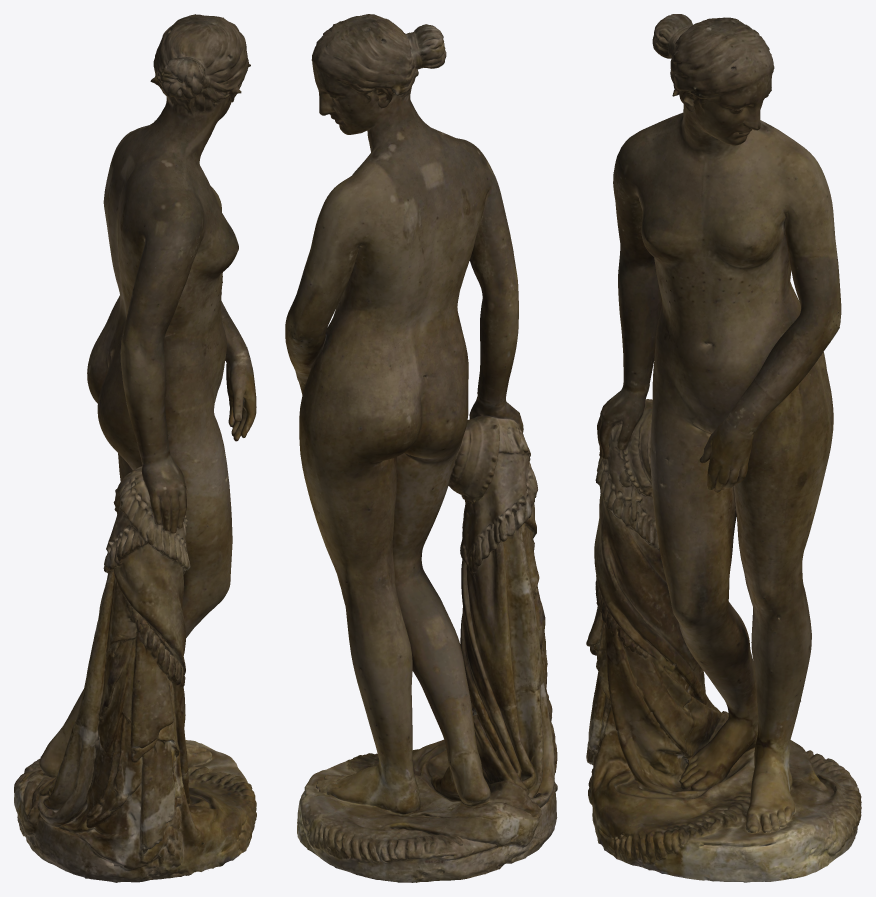
The model's file is l-esclave-grecque.glb.
3 views of the same model, side by side, from view 1: azimuth 30°, elevation 25°; view 2: azimuth 150°, elevation 25°; view 3: azimuth 270°, elevation 25° (orthographic). The views are drawn at different scales.
Bounding box in the file's own units: 20.08 × 66.25 × 19.7.
Materials: 1 (1 with a texture image).
